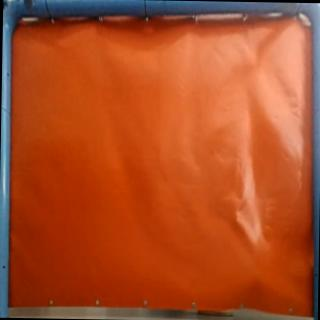Hit-hRxx: (254, 270, 271, 290)
